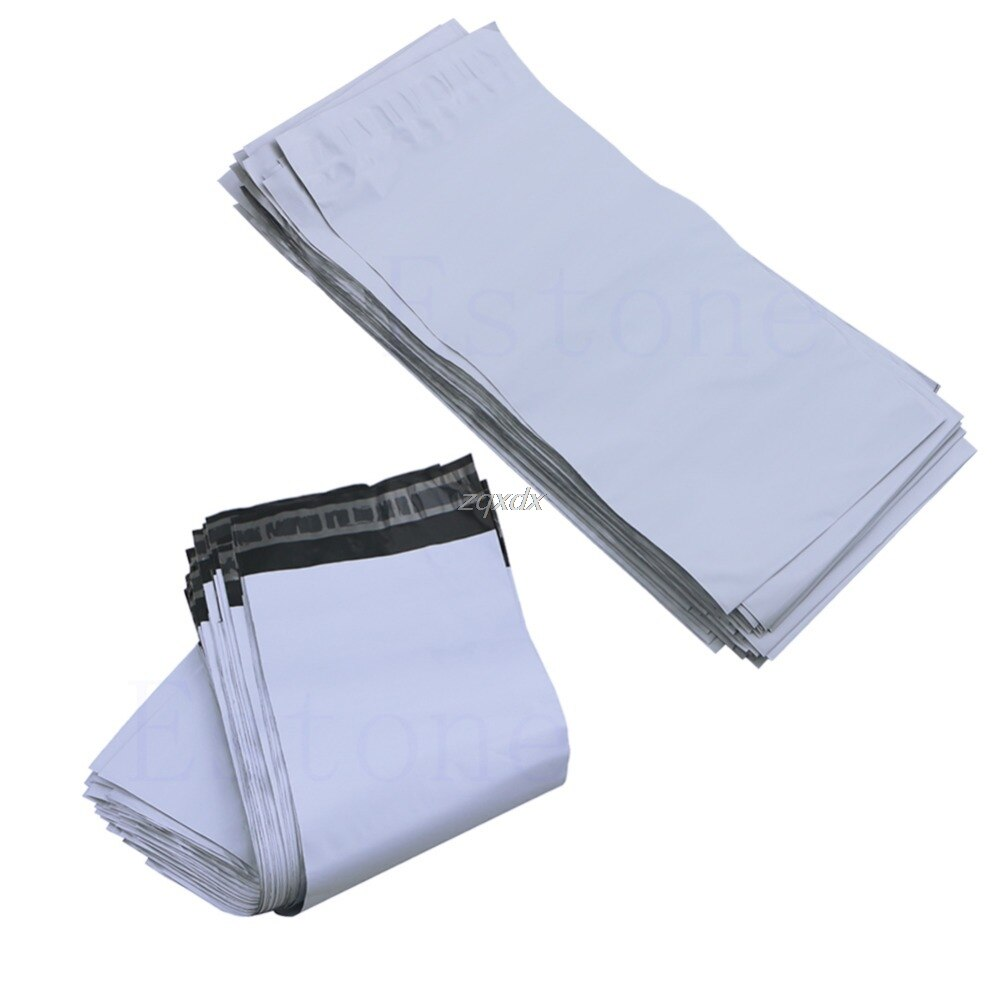Parcel: (221, 22, 974, 662), (84, 456, 568, 916)
